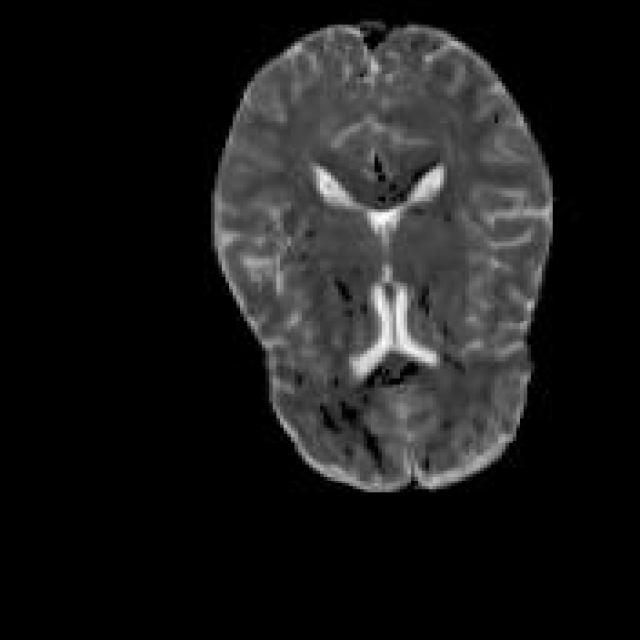parkinson: (207, 15, 553, 492)
